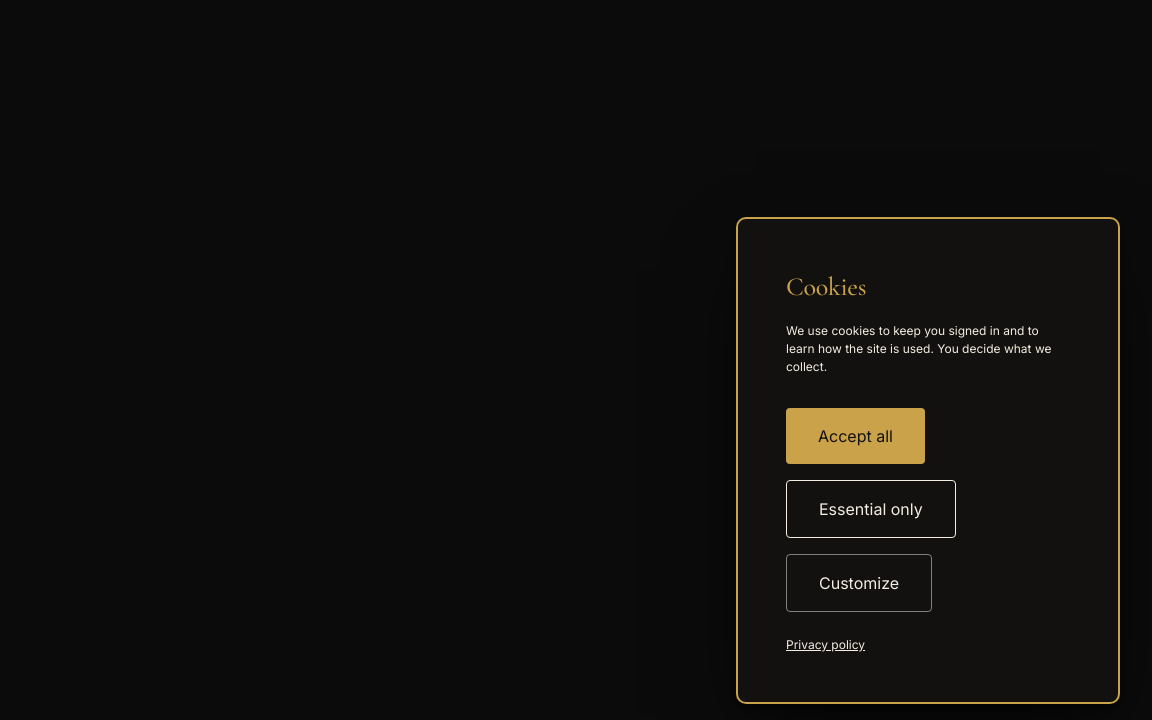
Test: ConsentCustomizePanel a11y › initial focus lands on the Cancel button
Click the button "Customize": (859, 583) x1=786 y1=554 x2=932 y2=612
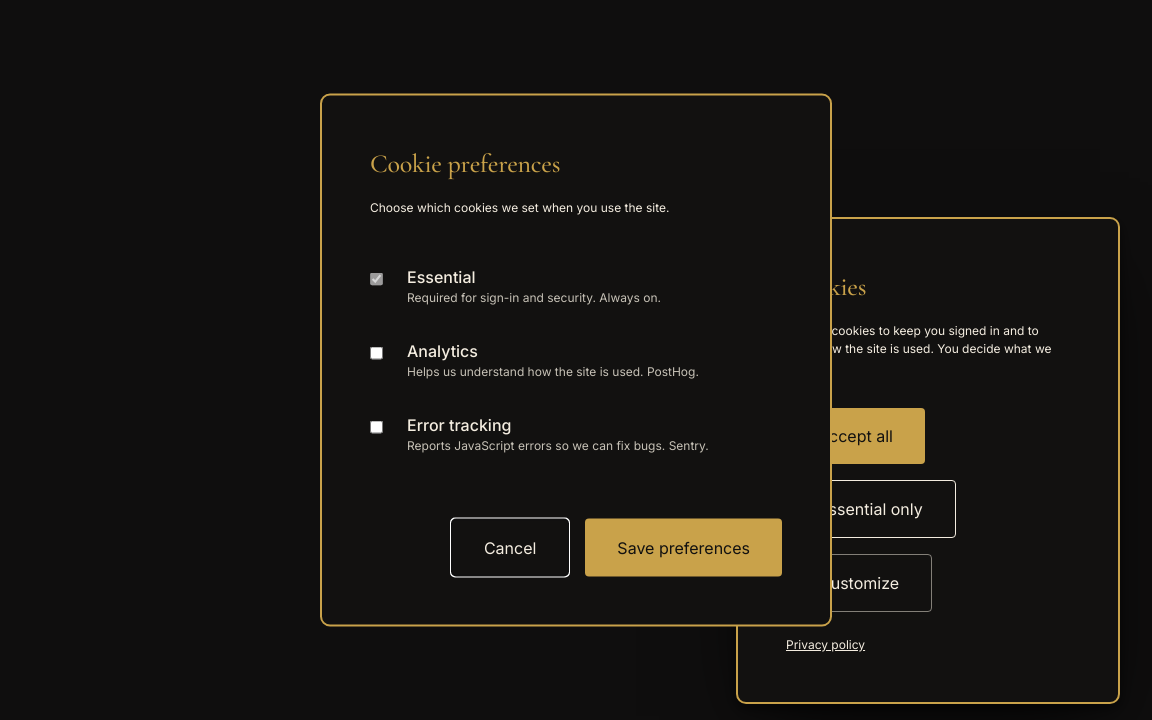
Check: the dialog is shown, box x1=320 y1=94 x2=832 y2=626
